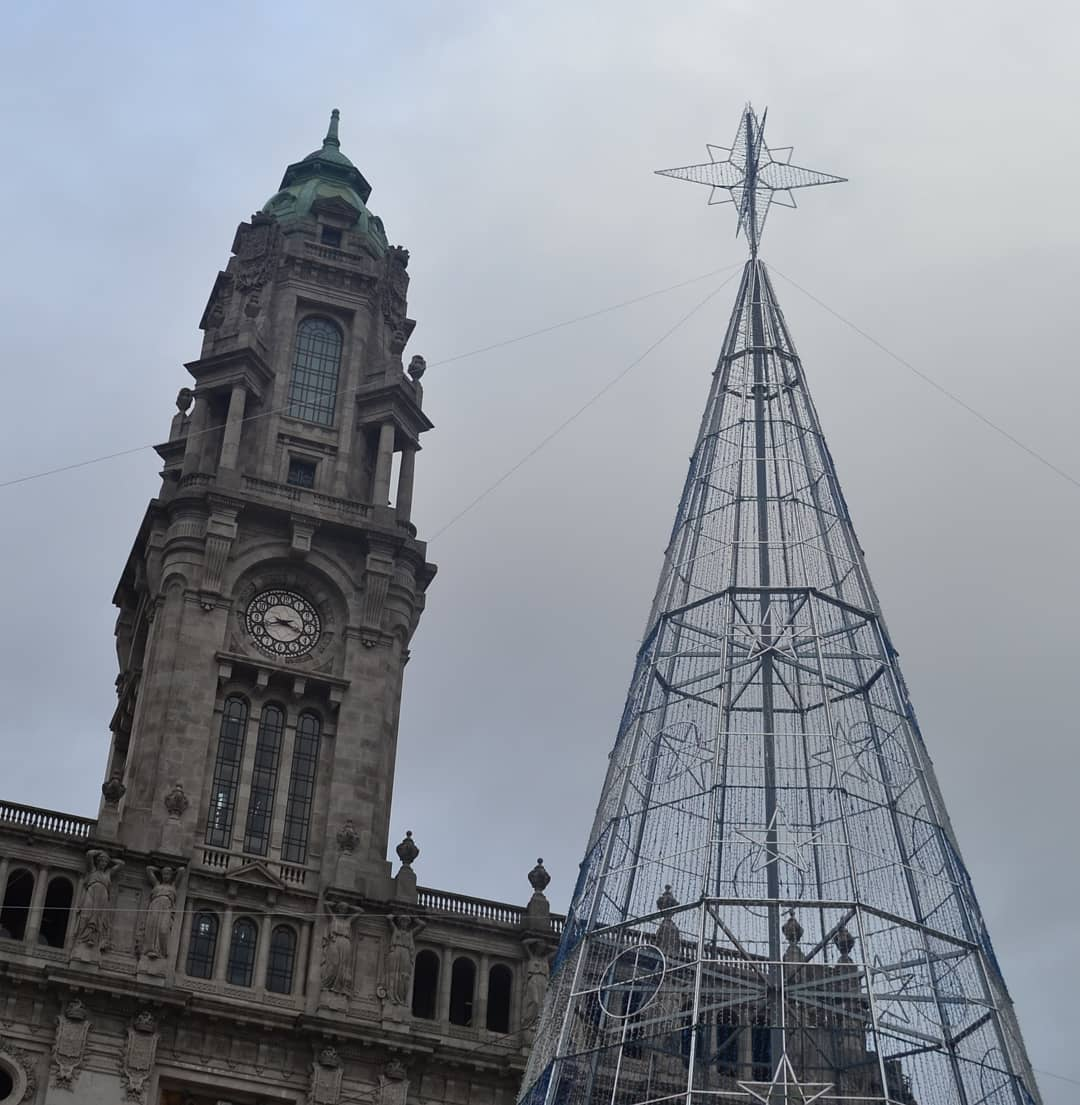camara: (0, 106, 922, 1104)
